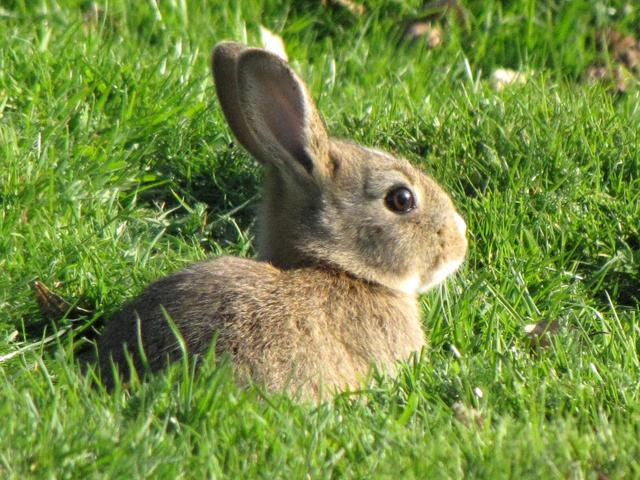rabbit: (81, 27, 521, 436)
